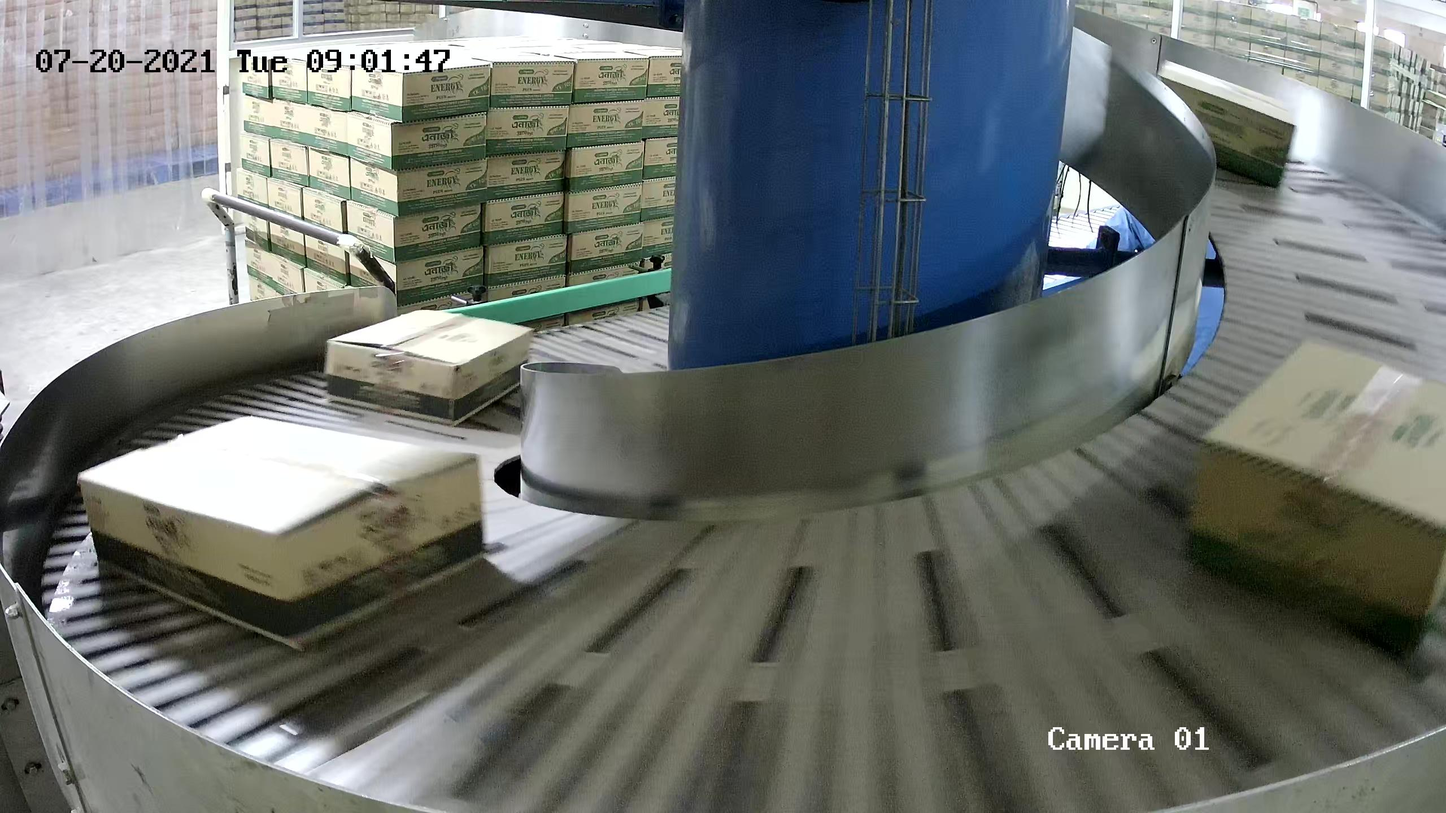Box: (75, 414, 489, 651), (1184, 336, 1446, 666), (325, 308, 536, 428), (1150, 59, 1299, 189)
